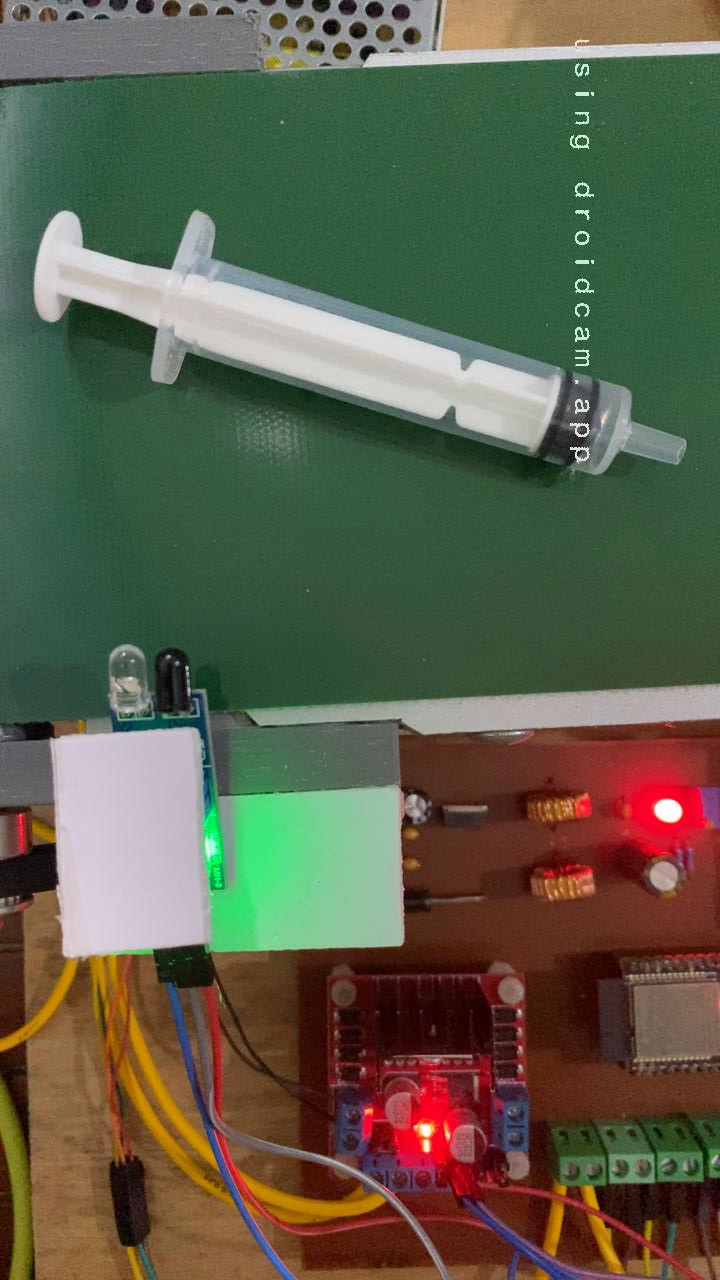syringe: (26, 204, 692, 483)
